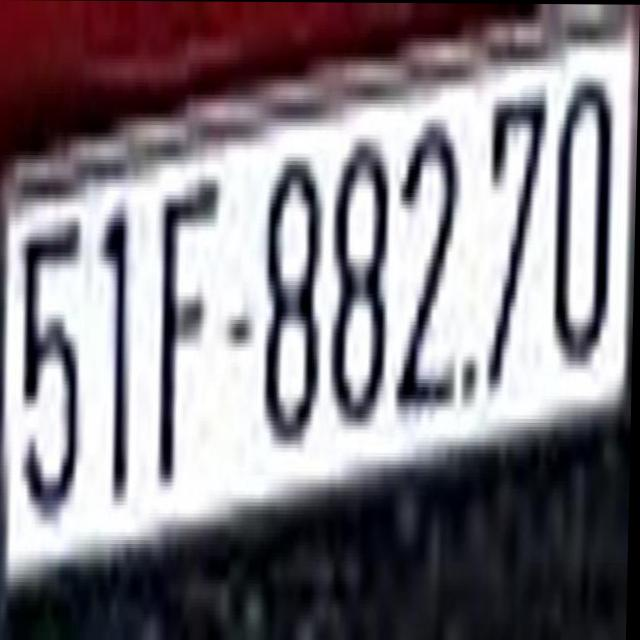0: (548, 69, 617, 384)
1: (99, 199, 141, 513)
2: (393, 119, 463, 433)
5: (17, 213, 87, 525)
7: (480, 88, 549, 414)
8: (263, 137, 325, 475), (330, 141, 394, 449)
F: (153, 175, 220, 490)
